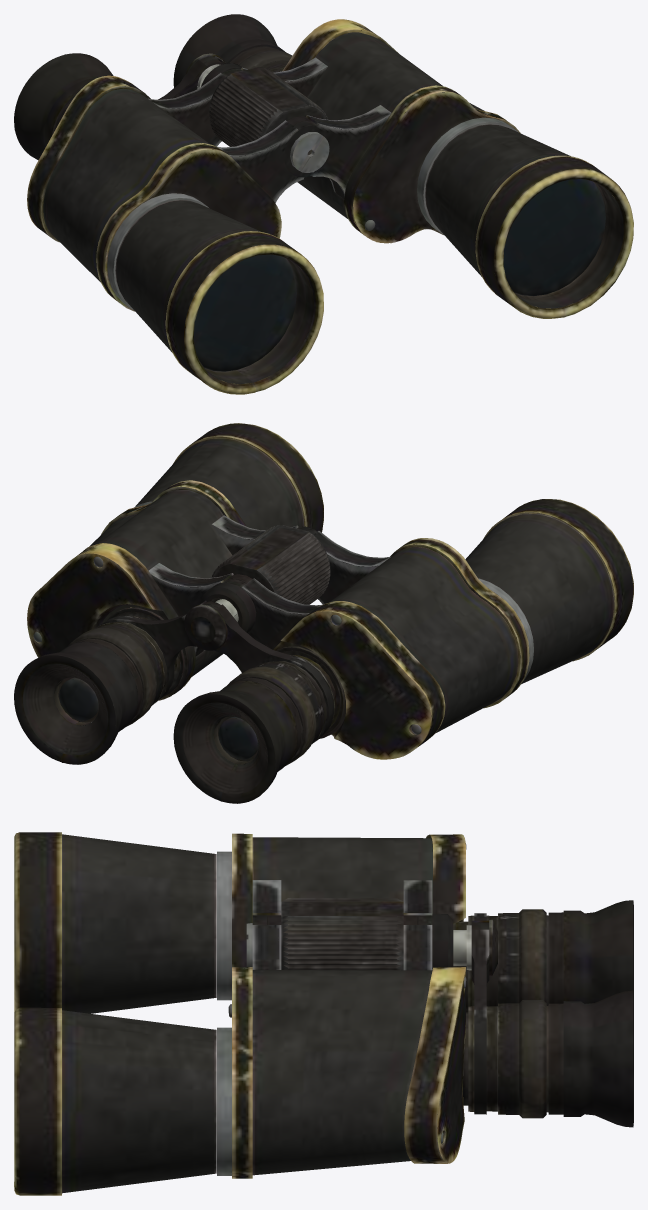
The model's file is ph_vintage_binocular.glb.
3 renders of one model, top to bottom at view 1: azimuth 30°, elevation 25°; view 2: azimuth 150°, elevation 25°; view 3: azimuth 270°, elevation 25°, orthographic. The views are drawn at different scales.
Visible parts, largest first — view 1: vintage_binocular_left_lens; view 2: vintage_binocular_left_lens; view 3: vintage_binocular_left_lens.
Boxes of the visible parts, box(x1,y1,x2,y2) form: vintage_binocular_left_lens: box(14, 14, 633, 394); vintage_binocular_left_lens: box(14, 423, 633, 803); vintage_binocular_left_lens: box(14, 832, 633, 1195).
Bounding box in the file's own units: 0.1941 × 0.0685 × 0.1993.
Materials: 1 (1 with a texture image).
